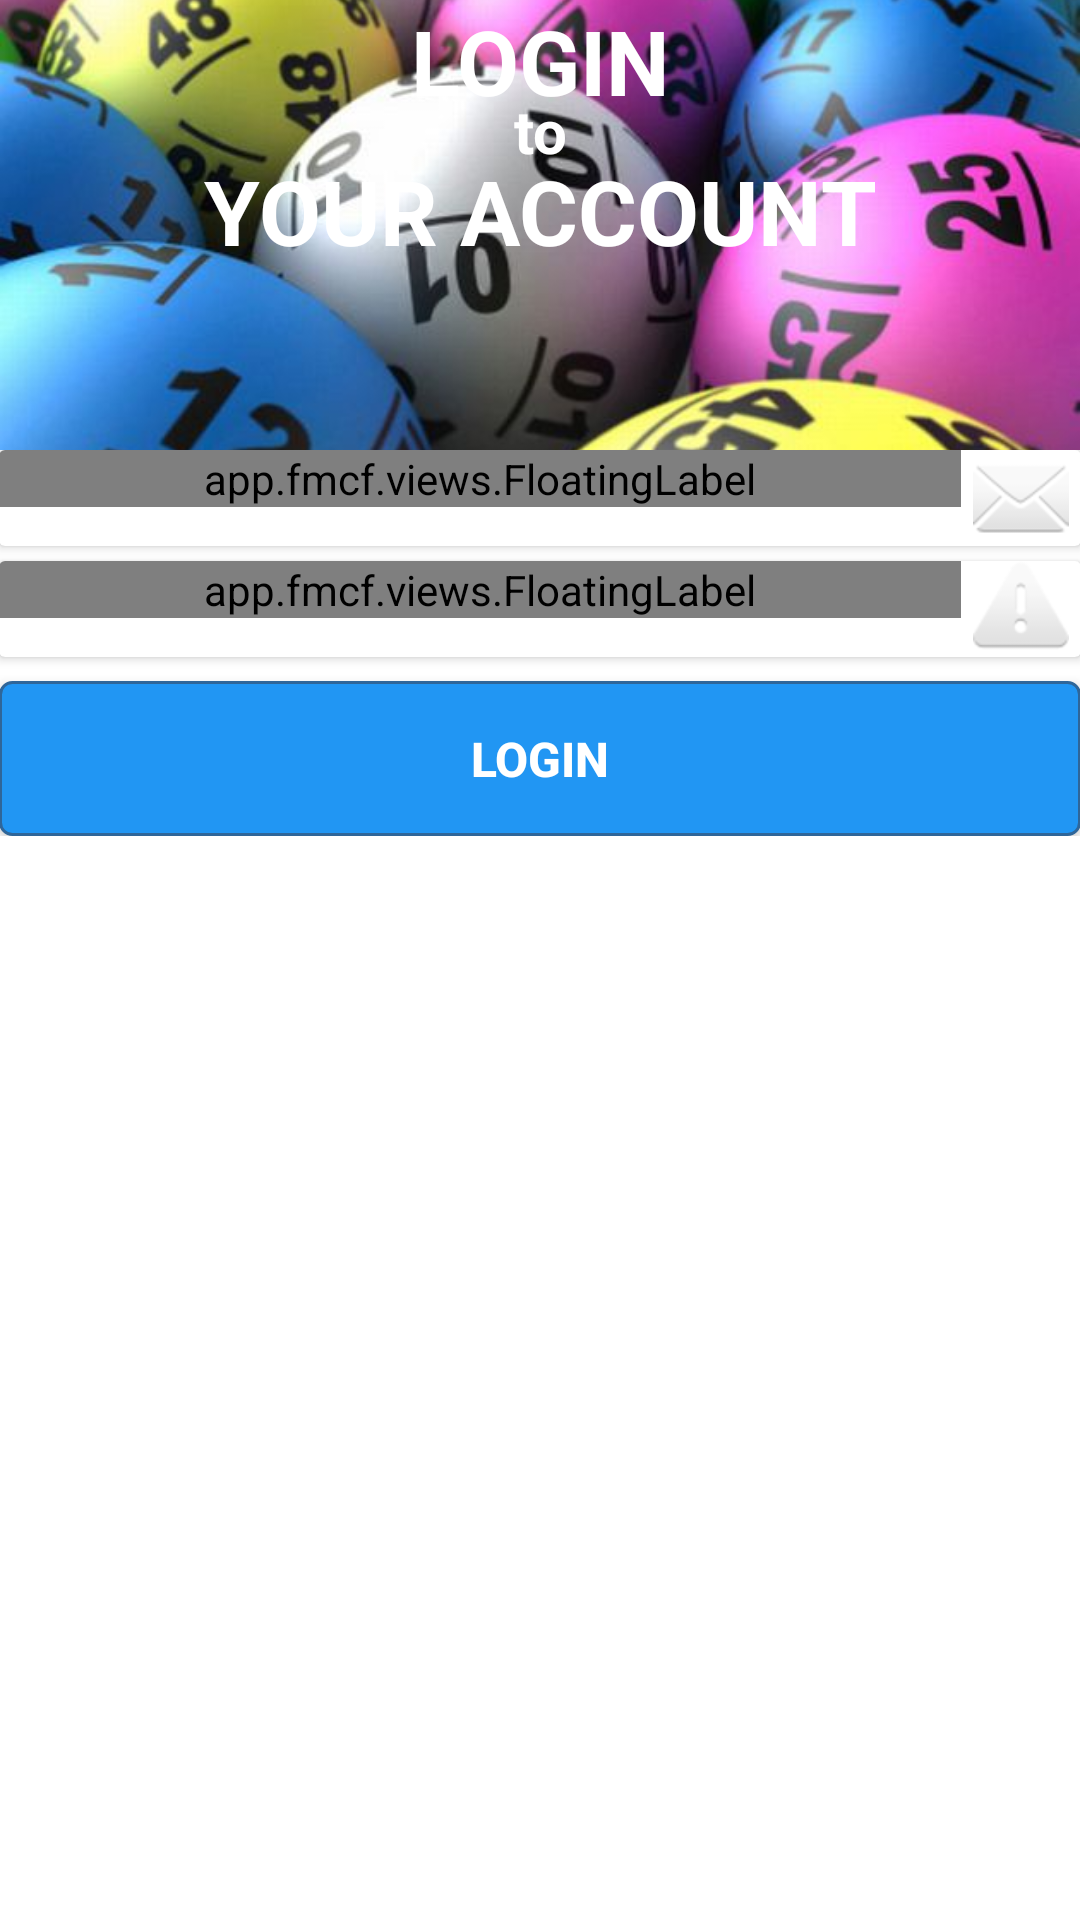

Icon click points for this 1080*1920 phone screenshot, format (x,y):
alert: (1021,615)
email: (1020,498)
